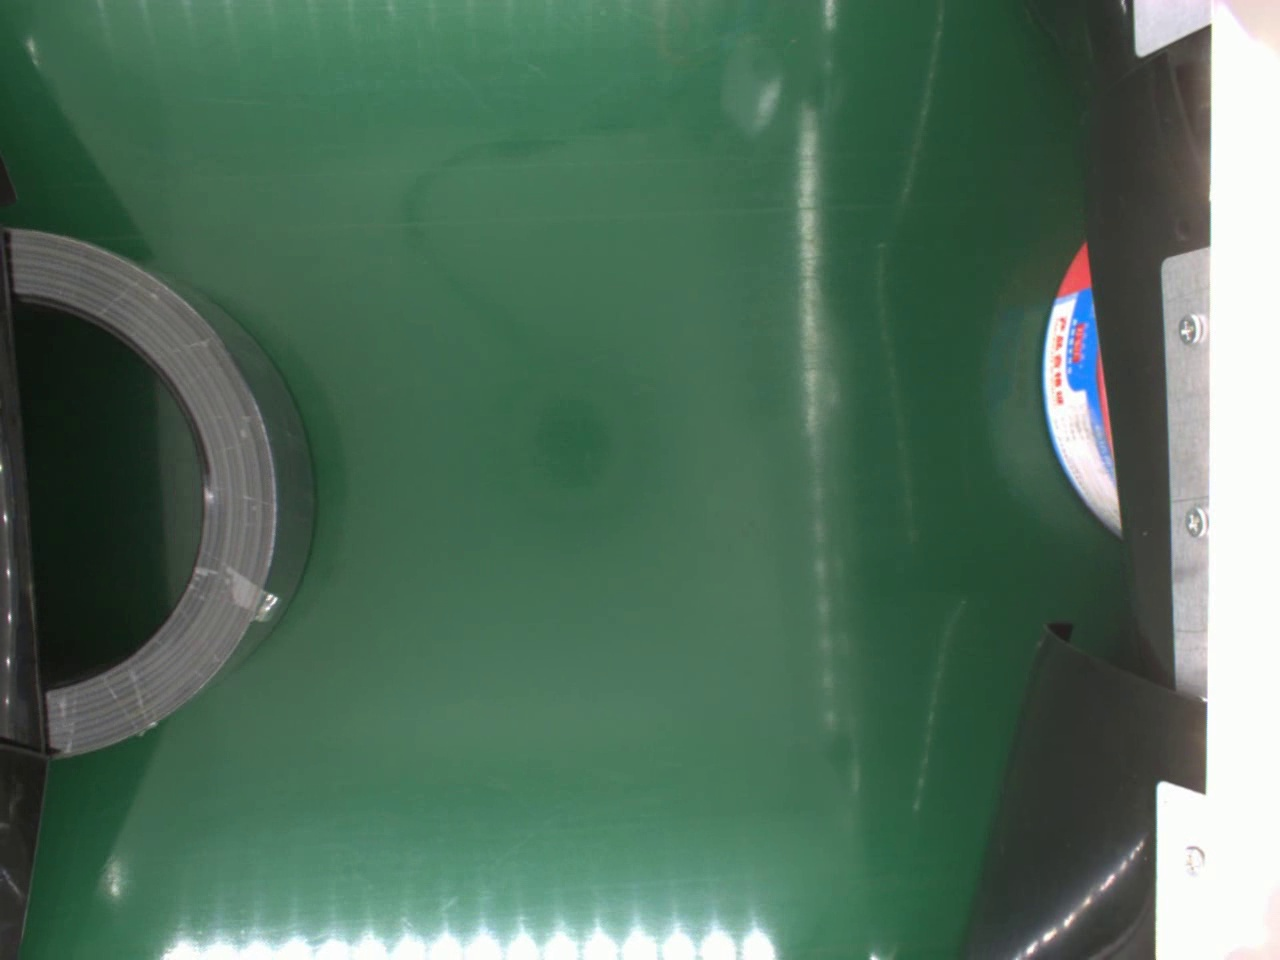black: (4, 220, 324, 768)
